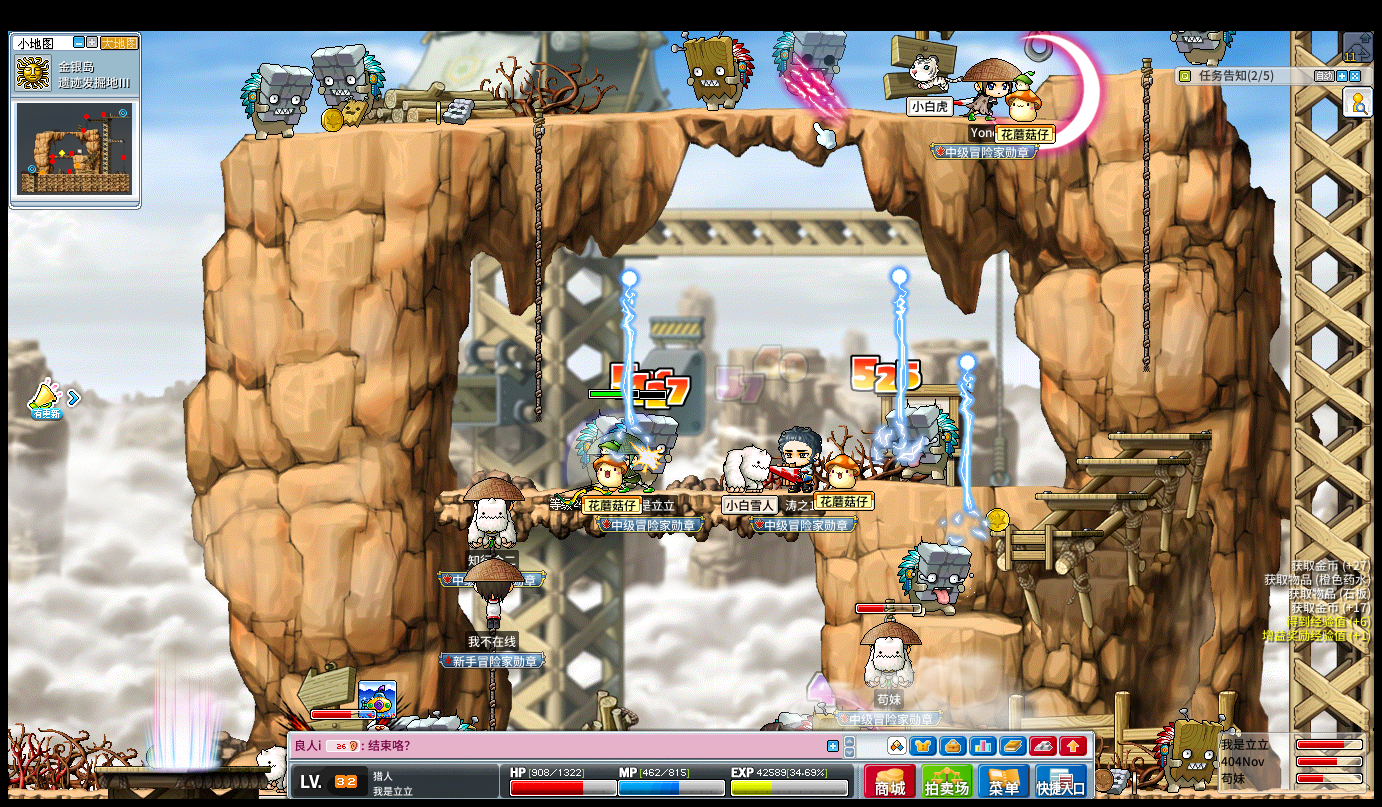floor: (235, 104, 1092, 139), (432, 487, 815, 498), (901, 613, 1022, 635), (1047, 62, 1175, 82), (865, 480, 1073, 491), (1105, 429, 1210, 440), (987, 528, 1103, 536), (1071, 456, 1186, 464), (1037, 492, 1148, 499)
monster: (1155, 713, 1237, 791), (680, 26, 755, 111), (311, 43, 385, 129), (773, 26, 846, 109), (898, 541, 972, 618), (238, 61, 310, 139), (890, 404, 958, 482), (625, 411, 678, 452)
rope: (1138, 57, 1153, 382), (532, 108, 544, 421), (486, 666, 495, 729)
